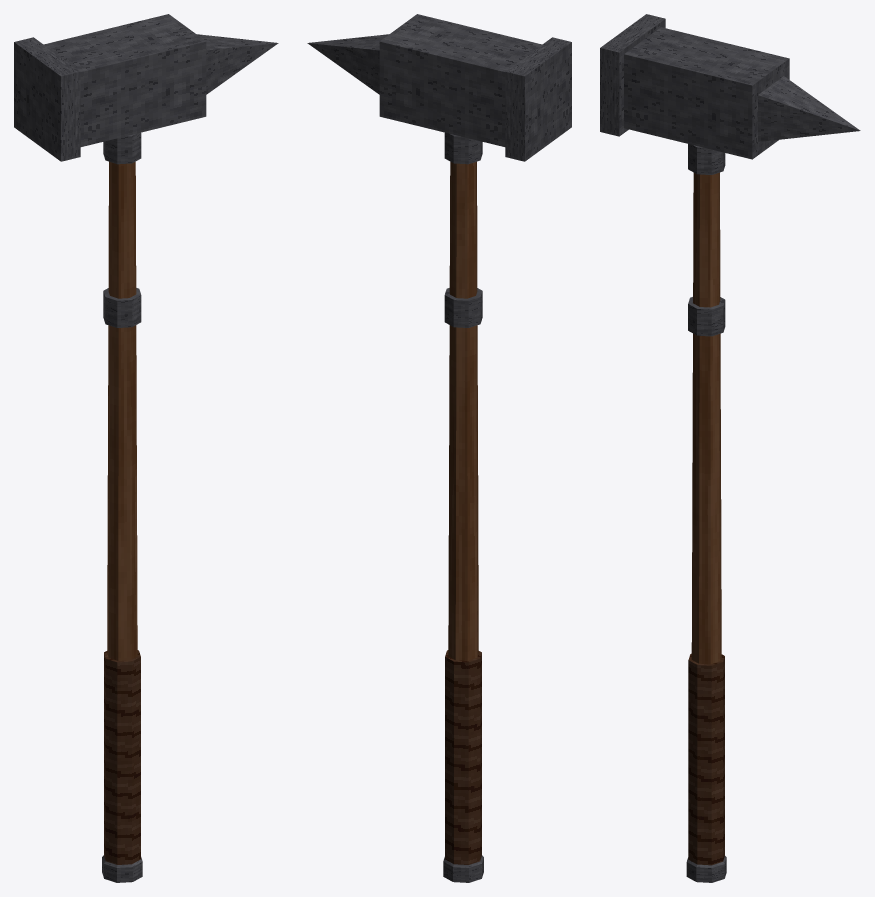
File: maul.glb
The picture shows the model from 3 angles, left to right: view 1: azimuth 30°, elevation 25°; view 2: azimuth 150°, elevation 25°; view 3: azimuth 330°, elevation 25°; orthographic projection.
Parts seen in each view (by area): view 1: W_Maul; view 2: W_Maul; view 3: W_Maul.
Part boxes in pixels (x1=…): W_Maul: x1=14, y1=14, x2=278, y2=882; W_Maul: x1=307, y1=14, x2=571, y2=882; W_Maul: x1=600, y1=14, x2=860, y2=882.
Bounding box in the file's own units: 0.37 × 1.22 × 0.125.
Materials: 3 (3 with a texture image).
